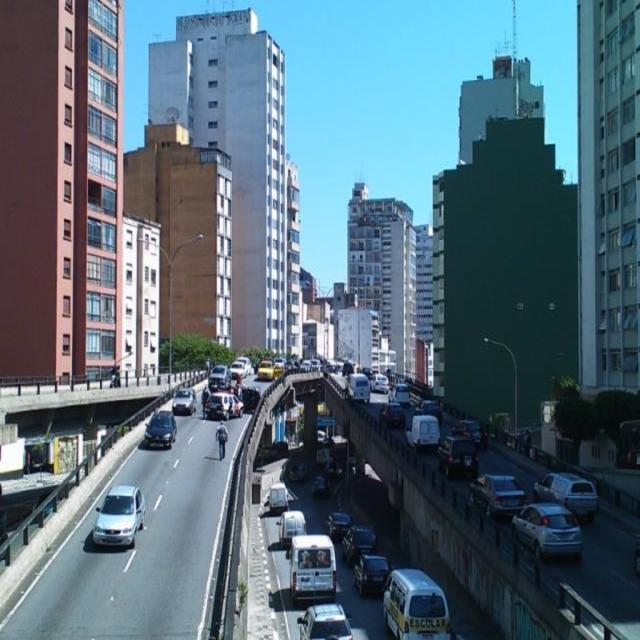car: (81, 488, 141, 556), (141, 409, 177, 449), (204, 389, 243, 420), (170, 384, 197, 415)
